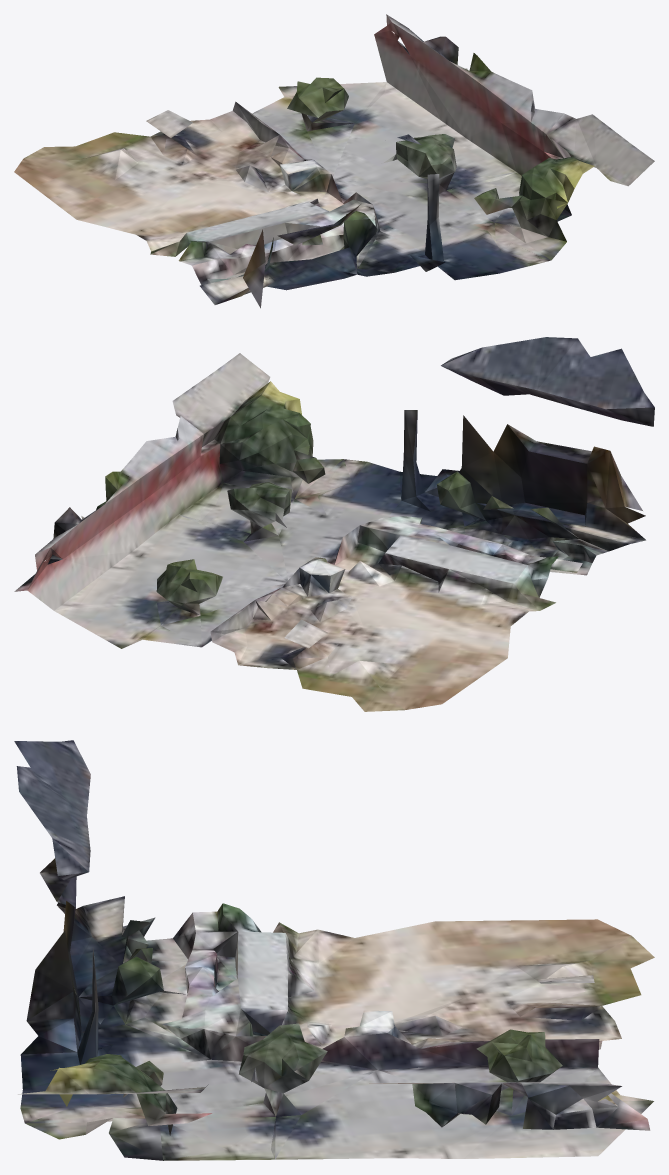
File: Tile_+001_+003_L17_00.glb
3 views of the same model, one above another, from view 1: azimuth 30°, elevation 25°; view 2: azimuth 150°, elevation 25°; view 3: azimuth 270°, elevation 25° (orthographic). The views are drawn at different scales.
Size of the model in its own units: 59.64 by 22.8 by 60.79.
1 material, 1 textured.
